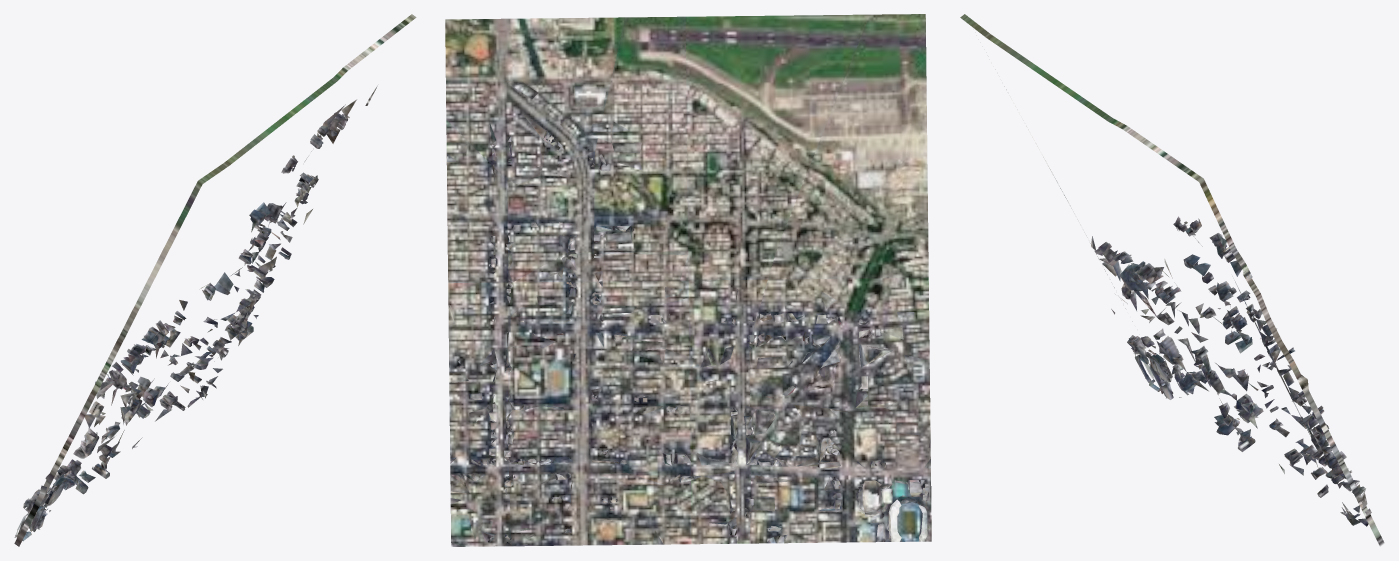
3 renders of one model, left to right at view 1: azimuth 30°, elevation 25°; view 2: azimuth 150°, elevation 25°; view 3: azimuth 270°, elevation 25°, orthographic. The views are drawn at different scales.
Size of the model in its own units: 2445 by 2228 by 2063.
Materials: 2 (2 with a texture image).
